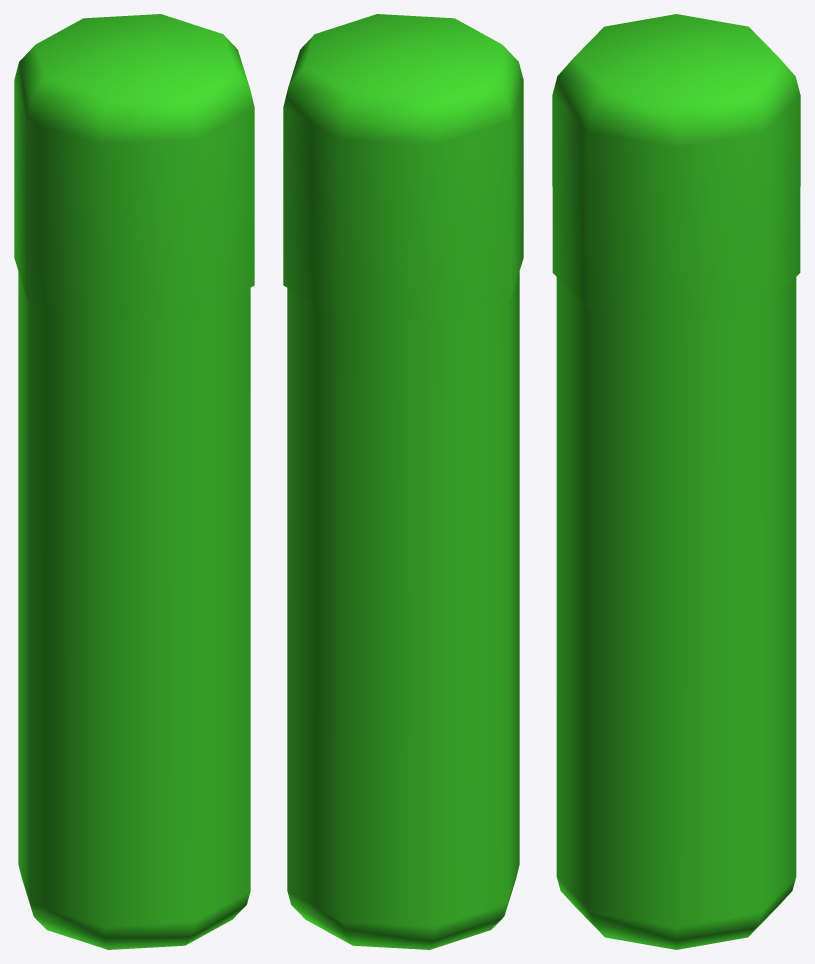
File: hairSpray (1).fbx
3 renders of one model, left to right at view 1: azimuth 30°, elevation 25°; view 2: azimuth 150°, elevation 25°; view 3: azimuth 270°, elevation 25°, orthographic.
Parts seen in each view (by area): view 1: hairSpray; view 2: hairSpray; view 3: hairSpray.
Part boxes in pixels (<box>): hairSpray: <box>14,14,254,949</box>; hairSpray: <box>283,14,523,949</box>; hairSpray: <box>552,14,800,949</box>.
Bounding box in the file's own units: 14.8 × 56.04 × 14.8.
